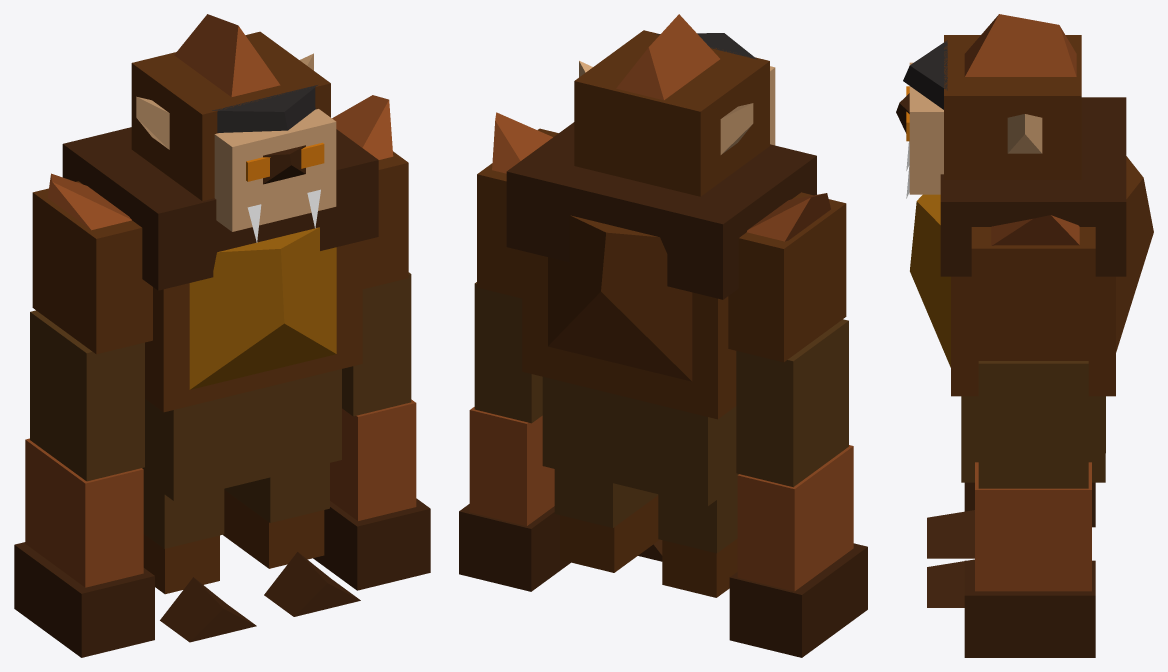
Rendered from bigfoot.fbx.
3 views of the same model, side by side, from view 1: azimuth 30°, elevation 25°; view 2: azimuth 150°, elevation 25°; view 3: azimuth 270°, elevation 25° (orthographic). The views are drawn at different scales.
Parts seen in each view (by area): view 1: FurCollar, ChestBulge, LowerTorso, Arm_L, Shoulder_L, Forearm_L, Head, Torso, Claw_L, FaceMask, Forearm_R, Claw_R (+14 smaller); view 2: FurCollar, Head, BackHump, LowerTorso, Arm_L, Shoulder_L, Torso, Forearm_L, Claw_L, Forearm_R, Arm_R, Claw_R (+10 smaller); view 3: FurCollar, Shoulder_R, Head, Arm_R, Forearm_R, Claw_R, SagittalCrest, Torso, ChestBulge, BackHump, FaceMask, LowerTorso (+6 smaller).
Boxes of the visible parts, x1,y1,x2,y2 form: FurCollar: [62, 127, 378, 290]; ChestBulge: [189, 227, 336, 389]; LowerTorso: [142, 369, 341, 500]; Arm_L: [30, 310, 144, 481]; Shoulder_L: [32, 181, 152, 354]; Forearm_L: [25, 438, 143, 587]; Head: [131, 31, 330, 201]; Torso: [145, 241, 362, 412]; Claw_L: [14, 542, 154, 657]; FaceMask: [214, 109, 336, 231]; Forearm_R: [330, 399, 416, 520]; Claw_R: [313, 498, 430, 590]; FurCollar: [506, 122, 816, 299]; Head: [574, 30, 769, 196]; BackHump: [548, 215, 692, 381]; LowerTorso: [542, 377, 738, 506]; Arm_L: [736, 319, 848, 487]; Shoulder_L: [728, 192, 846, 362]; Torso: [522, 251, 736, 419]; Forearm_L: [737, 445, 853, 591]; Claw_L: [729, 543, 867, 657]; Forearm_R: [469, 407, 554, 525]; Arm_R: [474, 282, 542, 423]; Claw_R: [459, 504, 570, 591]; FurCollar: [940, 97, 1126, 276]; Shoulder_R: [971, 227, 1095, 360]; Head: [944, 35, 1081, 179]; Arm_R: [978, 361, 1088, 488]; Forearm_R: [975, 462, 1091, 591]; Claw_R: [964, 560, 1095, 657]; SagittalCrest: [964, 14, 1076, 76]; Torso: [951, 276, 1115, 396]; ChestBulge: [910, 194, 950, 367]; BackHump: [1116, 156, 1153, 352]; FaceMask: [909, 62, 943, 194]; LowerTorso: [961, 396, 1105, 482].
Size of the model in its own units: 912 by 1440 by 600.
